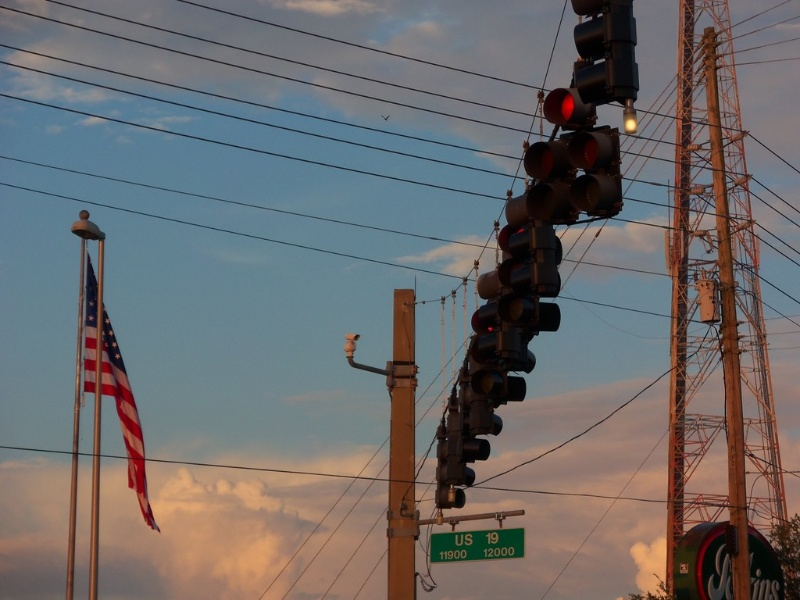red_light: (543, 86, 587, 132)
